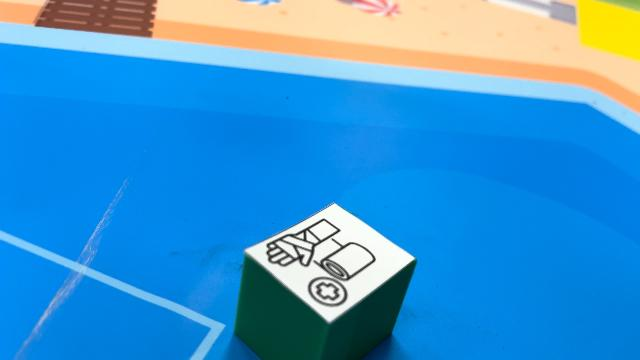bandage: (233, 201, 417, 359)
